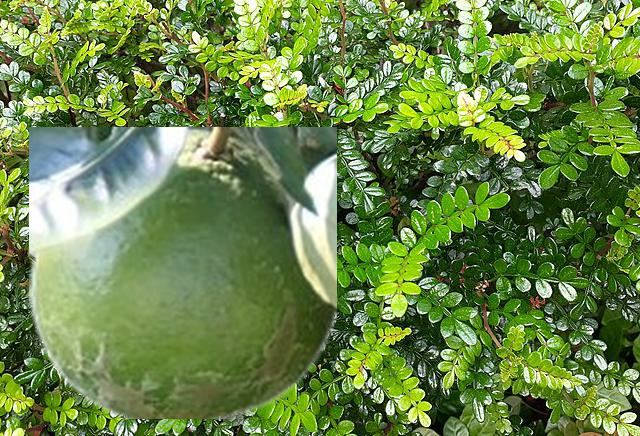dalandan: (29, 127, 335, 417)
